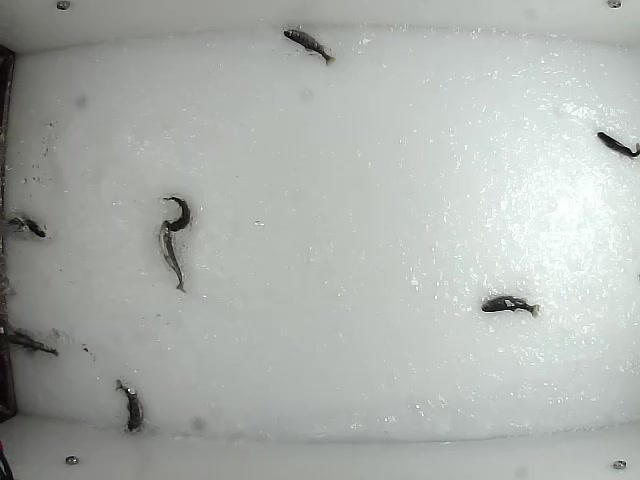fish: (156, 218, 187, 294), (282, 29, 336, 68), (2, 326, 63, 358), (111, 378, 144, 434), (478, 293, 543, 319), (597, 129, 640, 161), (158, 193, 191, 233), (4, 211, 49, 238)
